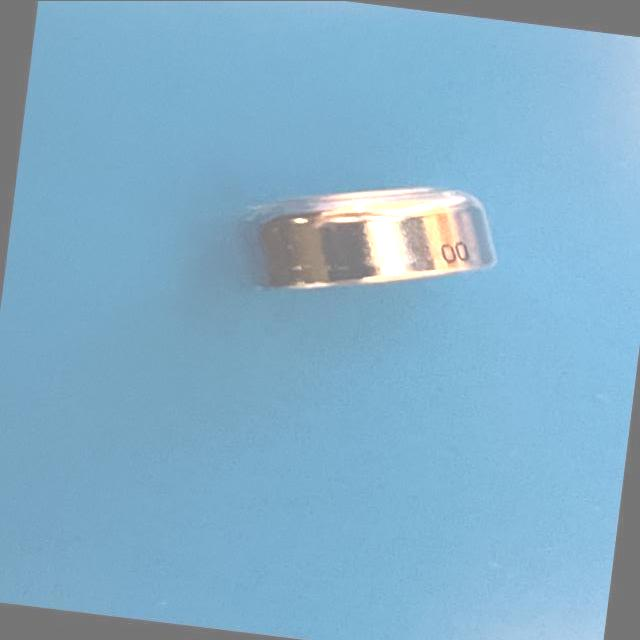COIN: (238, 166, 504, 320)
